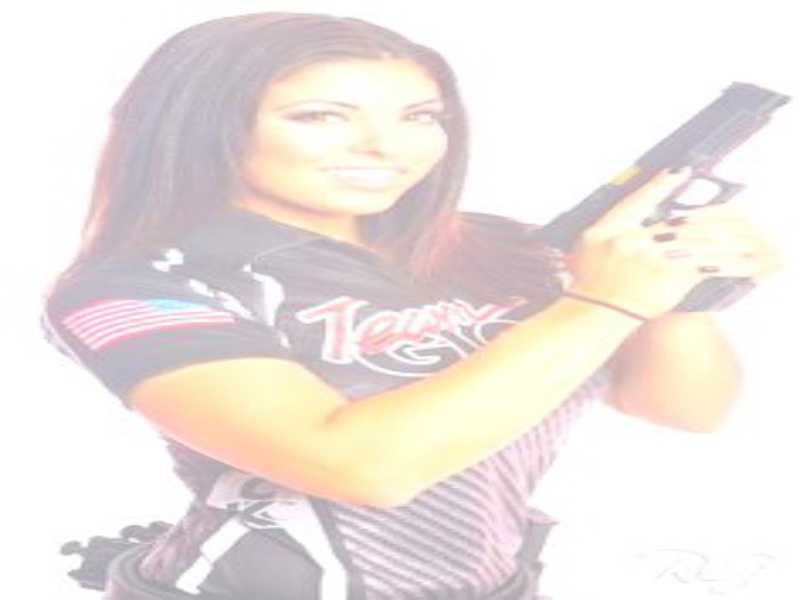gun: (513, 74, 796, 315)
